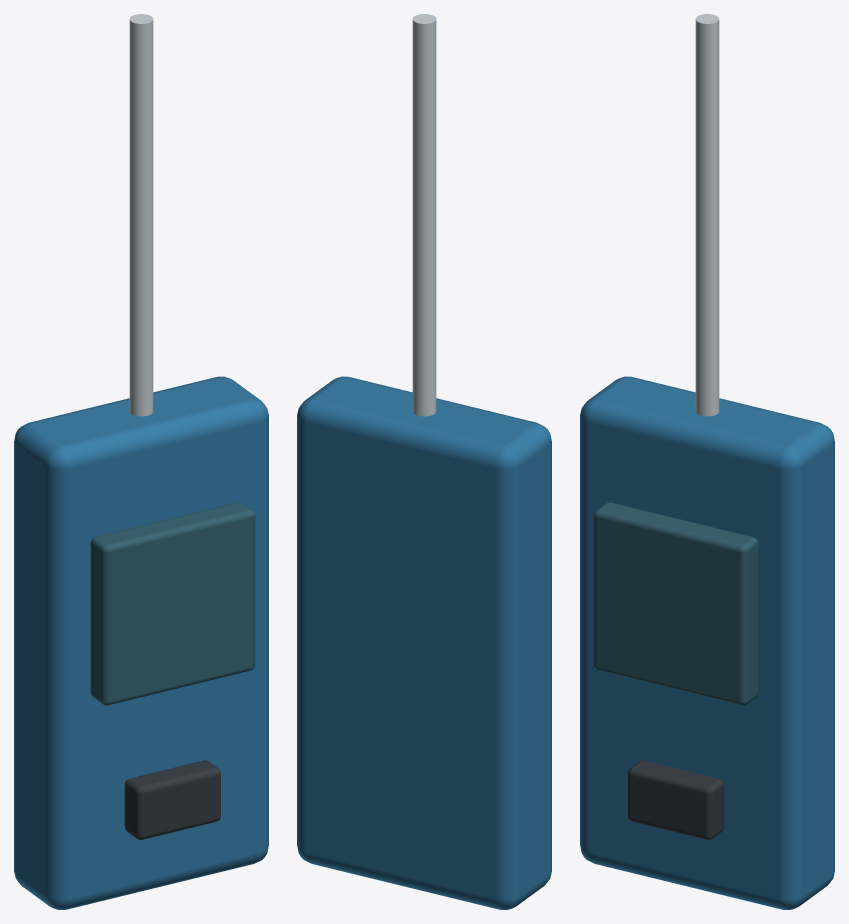
The model's file is curling-club-and-ice-maintenance-ice-thermometer-538ddfd6__31296.glb.
3 renders of one model, left to right at view 1: azimuth 30°, elevation 25°; view 2: azimuth 150°, elevation 25°; view 3: azimuth 330°, elevation 25°, orthographic.
Visible parts, largest first — view 1: ice-thermometer; view 2: ice-thermometer; view 3: ice-thermometer.
Boxes of the visible parts, box(x1,y1,x2,y2) form: ice-thermometer: box(14, 14, 268, 909); ice-thermometer: box(297, 14, 551, 909); ice-thermometer: box(580, 14, 834, 909).
Bounding box in the file's own units: 0.065 × 0.24 × 0.032.
